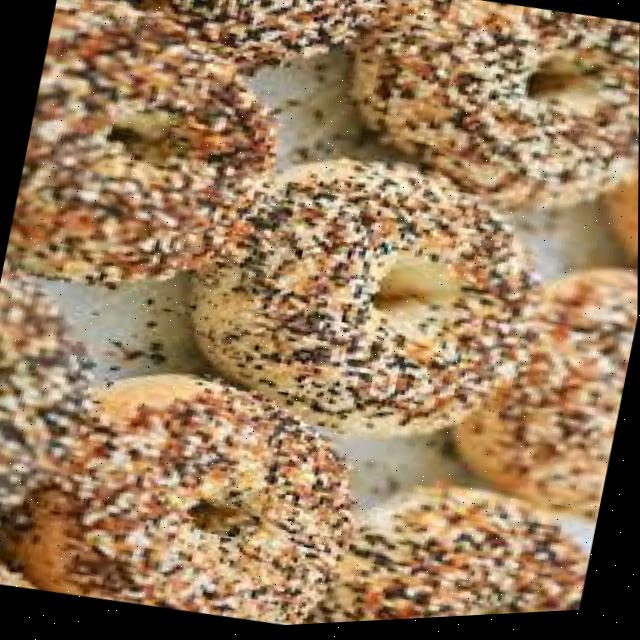Bagel: (193, 163, 539, 443), (16, 377, 357, 628), (10, 0, 274, 286), (349, 0, 640, 215), (453, 275, 638, 522)
